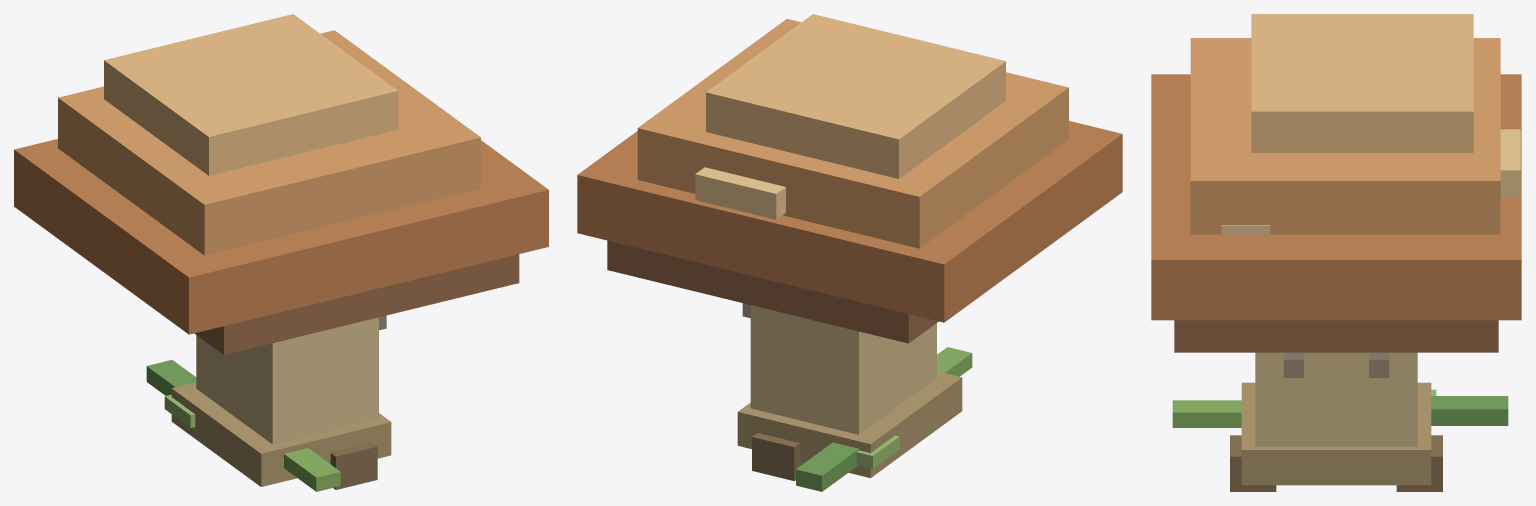
Rendered from sprout.glb.
3 views of the same model, side by side, from view 1: azimuth 30°, elevation 25°; view 2: azimuth 150°, elevation 25°; view 3: azimuth 270°, elevation 25° (orthographic). The views are drawn at different scales.
Parts seen in each view (by area): view 1: Cap, Cap_Highlight, Stem, Cap_Underside, Stem_Shadow, Leaf, Feet; view 2: Cap, Cap_Highlight, Stem, Cap_Underside, Stem_Shadow, Leaf, Feet; view 3: Cap, Cap_Highlight, Stem, Cap_Underside, Stem_Shadow, Leaf, Feet, Eyes, Cap_Spot.
Part boxes in pixels (x1,y1,x2,y2): Cap: (14, 30, 548, 334); Cap_Highlight: (104, 14, 398, 175); Stem: (196, 317, 378, 444); Cap_Underside: (194, 254, 519, 354); Stem_Shadow: (171, 382, 391, 486); Leaf: (146, 360, 340, 491); Feet: (330, 442, 377, 489); Cap: (577, 19, 1122, 322); Cap_Highlight: (695, 14, 1005, 219); Stem: (750, 305, 936, 434); Cap_Underside: (607, 240, 938, 343); Stem_Shadow: (737, 371, 962, 477); Leaf: (796, 347, 972, 491); Feet: (752, 433, 804, 481); Cap: (1151, 38, 1521, 320); Cap_Highlight: (1251, 14, 1520, 197); Stem: (1255, 352, 1417, 446); Cap_Underside: (1174, 320, 1498, 352); Stem_Shadow: (1241, 382, 1431, 485); Leaf: (1172, 389, 1508, 427); Feet: (1230, 435, 1442, 491); Eyes: (1283, 352, 1389, 377); Cap_Spot: (1221, 225, 1269, 235).
Bounding box in the file's own units: 4.75 × 4.72 × 4.
